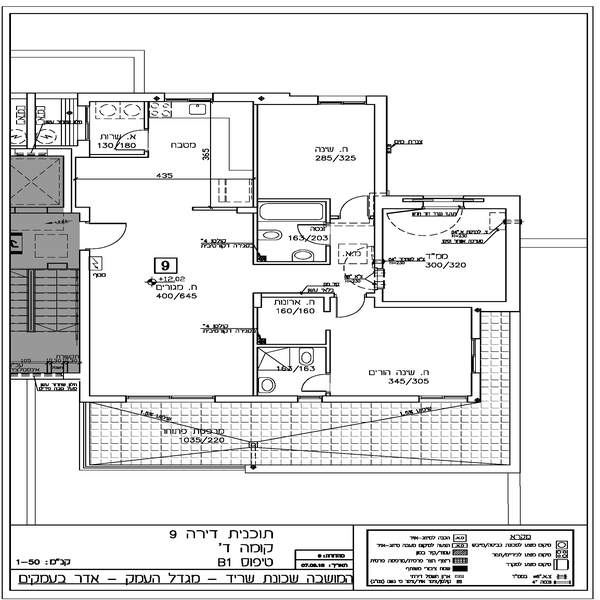door: (82, 218, 134, 248), (335, 283, 369, 319), (334, 195, 376, 224), (296, 214, 329, 245), (297, 364, 330, 394)
room: (72, 79, 253, 404), (369, 189, 537, 312), (239, 82, 399, 201), (312, 301, 485, 401)
wall: (487, 192, 533, 307), (368, 292, 526, 316), (367, 98, 397, 205), (245, 100, 263, 264), (77, 252, 95, 407), (205, 84, 318, 108), (255, 284, 337, 300), (248, 292, 260, 389), (262, 189, 330, 204), (227, 392, 295, 406), (81, 94, 165, 104), (321, 394, 416, 402), (467, 375, 489, 407)
window: (126, 388, 214, 407), (466, 337, 497, 374), (162, 89, 217, 108), (421, 390, 461, 412), (321, 88, 368, 106)
